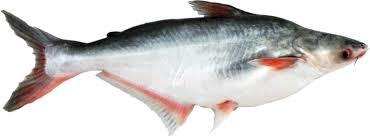Pangasius: (1, 0, 370, 135)
